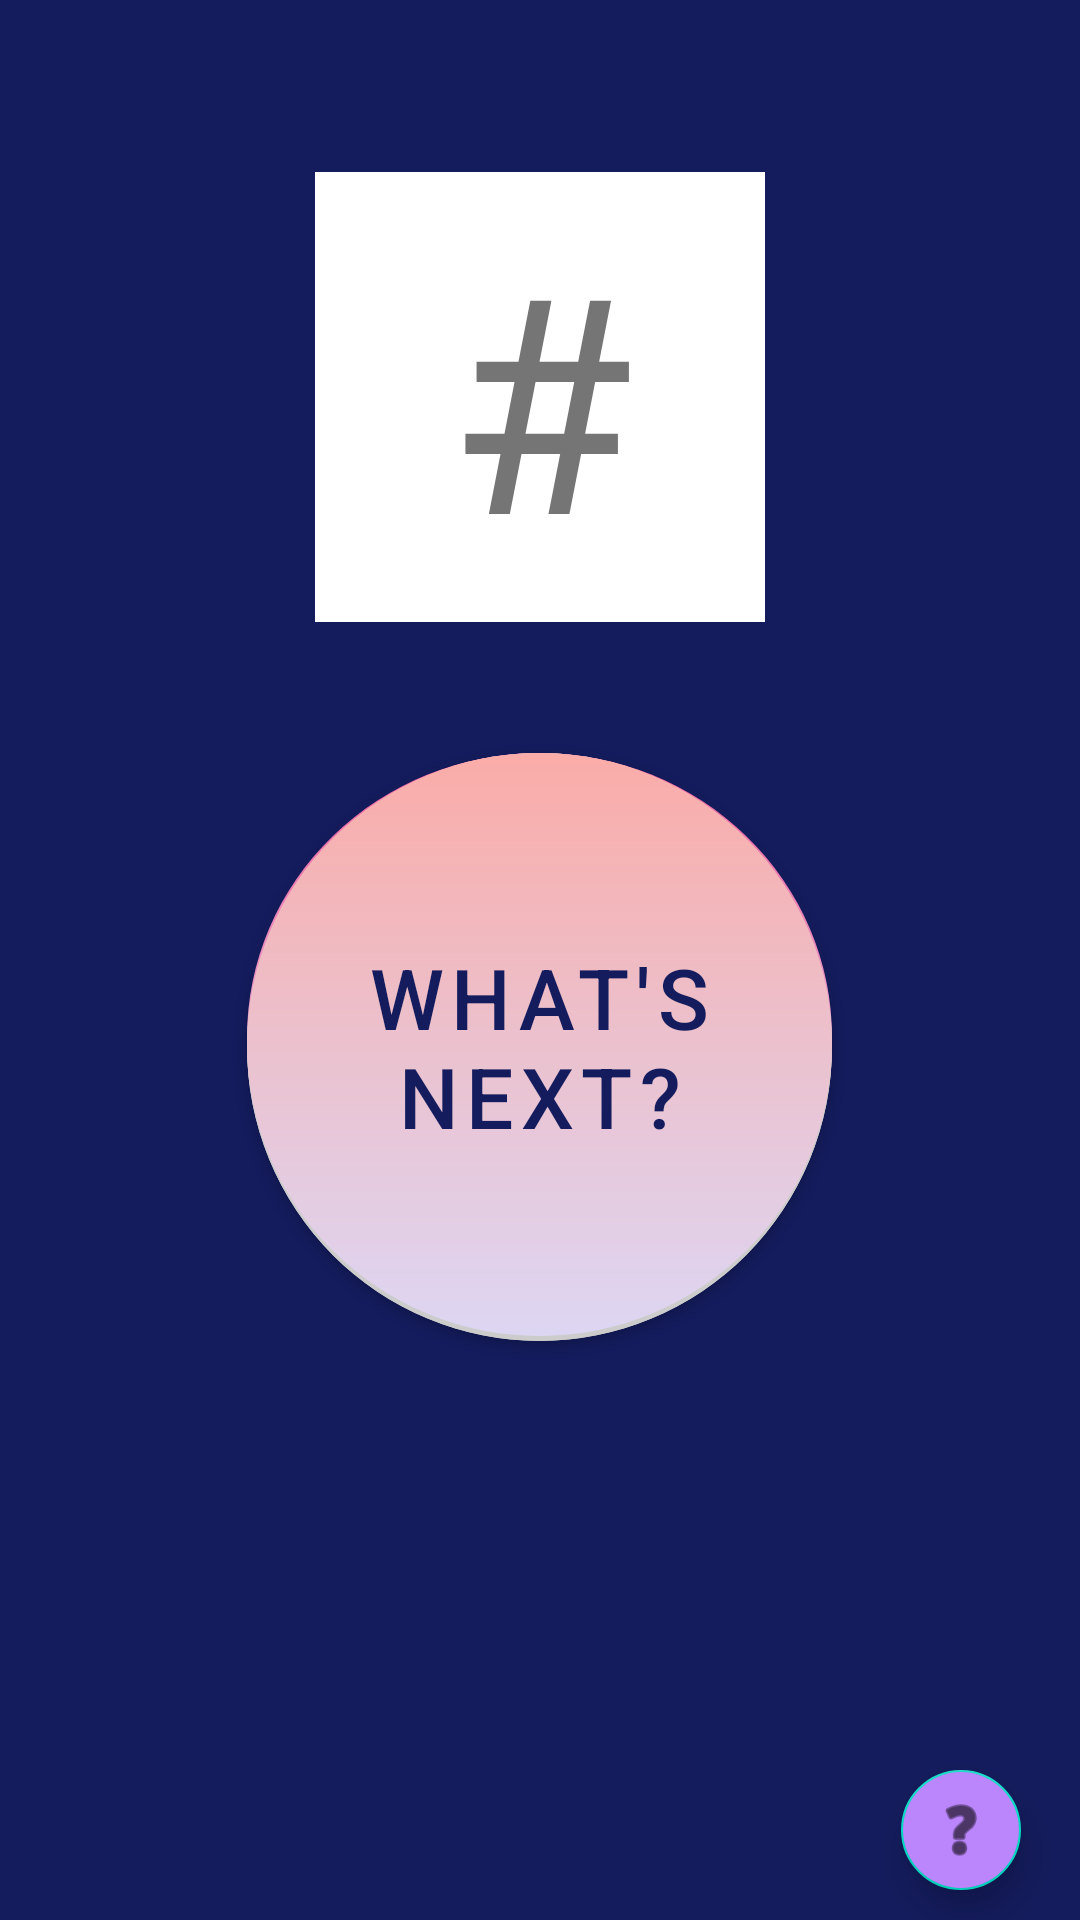

Icon bounding boxes for this 1080x1920 phone screenshot, format detection(x1, y1, x2, y2):
help: detection(901, 1770, 1021, 1890)
